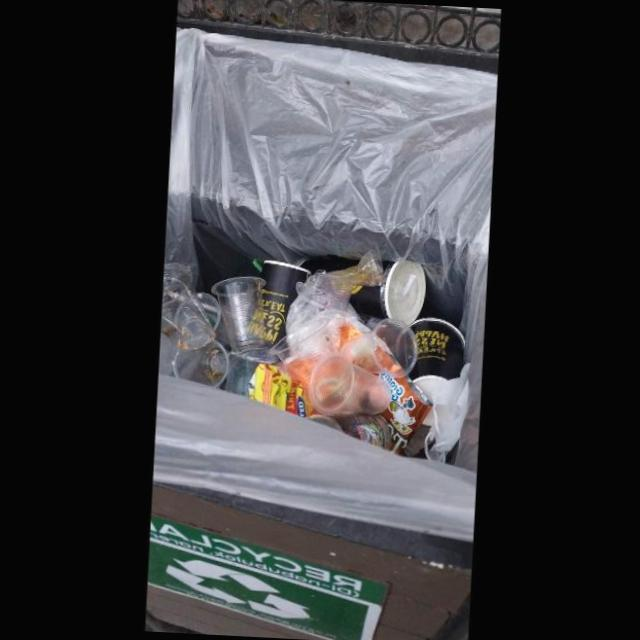bao_bi_thuc_pham: (249, 322, 431, 454)
carton: (409, 318, 465, 402), (259, 260, 311, 349)
hop_nhua: (306, 352, 391, 418), (296, 251, 383, 312), (161, 263, 216, 351), (339, 318, 418, 379), (211, 277, 270, 352), (225, 347, 281, 398), (171, 340, 229, 389)
ong_hut_nhua: (404, 274, 415, 295)
